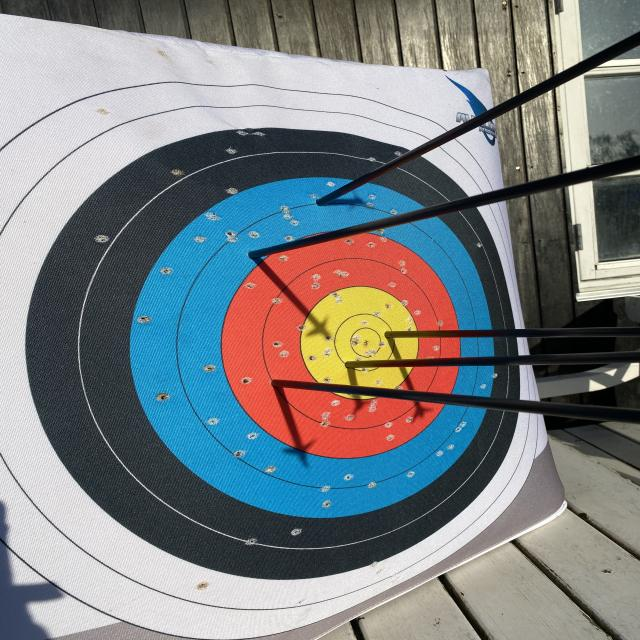Arrow_Blue: (300, 178, 352, 225), (242, 236, 273, 270)
Arrow_Red: (260, 367, 303, 401)
Arrow_Yellow: (335, 348, 363, 378), (375, 323, 404, 348)
